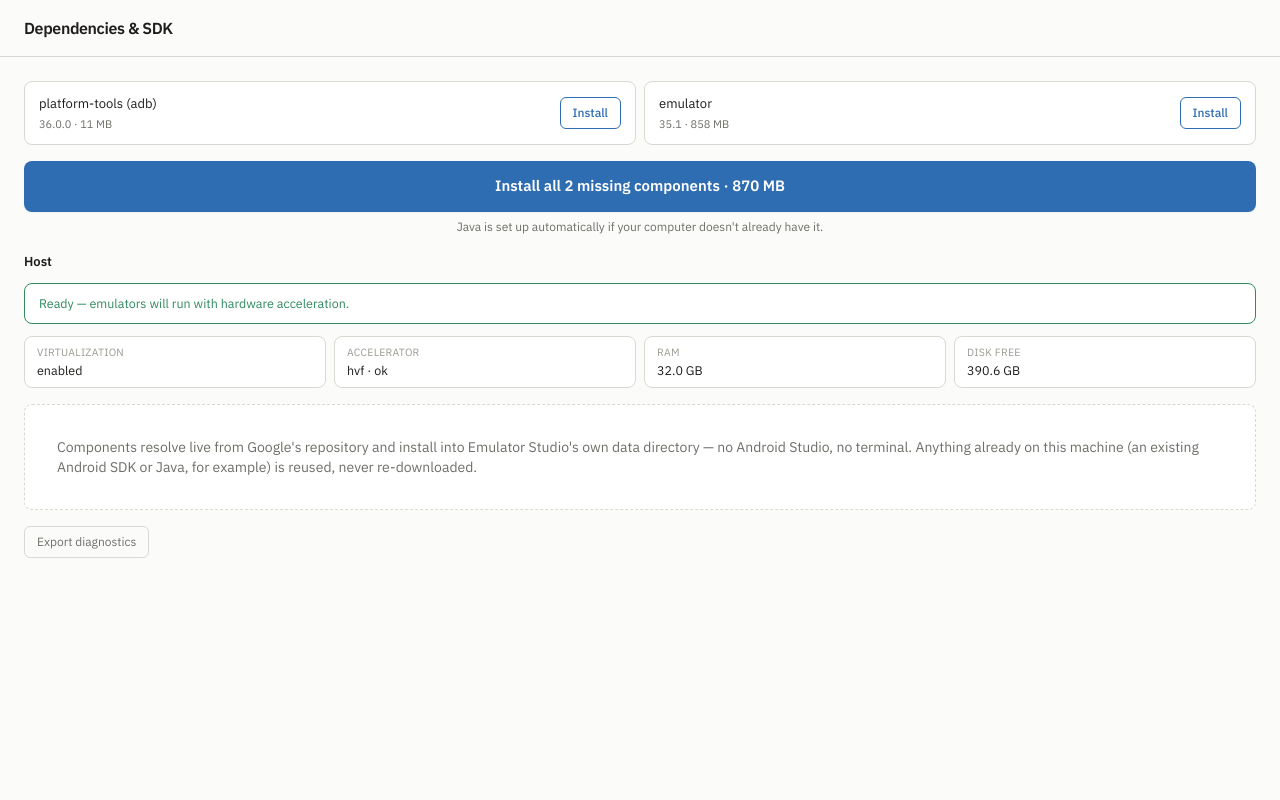
Test: Dependencies screen › shows the real error when a run fails
Click the button with test id "install-button".
click(640, 186)  # box [24,161,1256,212]
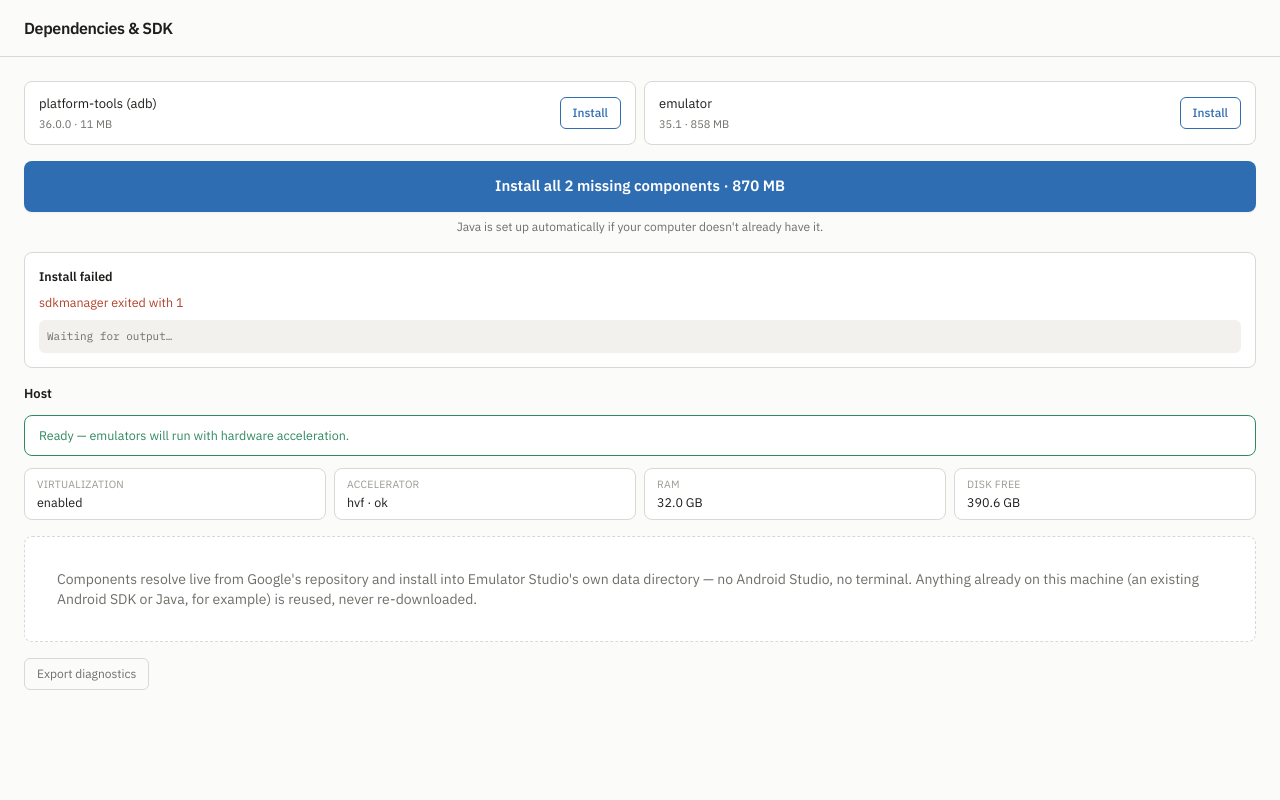
Expected: the text "sdkmanager exited with 1" is shown, [39,294,184,310]
